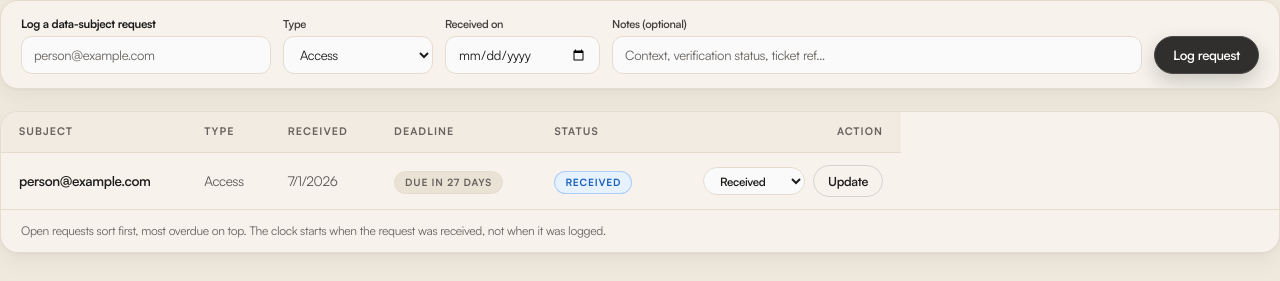
Test: RequestsTable › shows a clear message and keeps the row retryable when the write is stale
Select "Fulfilled" in the dropdown named "Status for person@example.com": (754, 181) [703, 167, 805, 195]
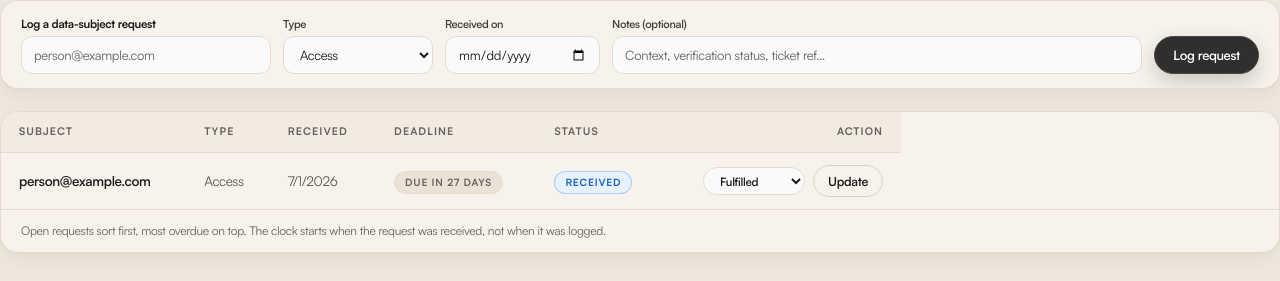
Click the button "Update": (848, 181) [813, 165, 883, 197]
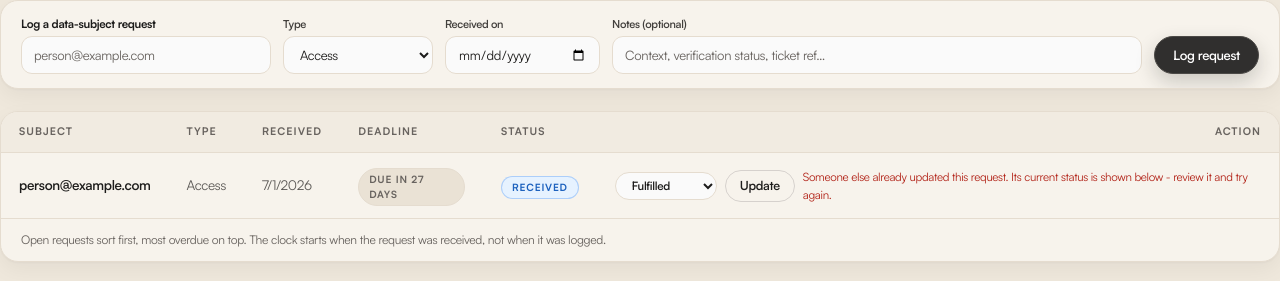
Expected: the button "Update" is enabled, [725, 170, 795, 202]
Expected: the text "already updated" is shown, [803, 169, 1248, 202]
